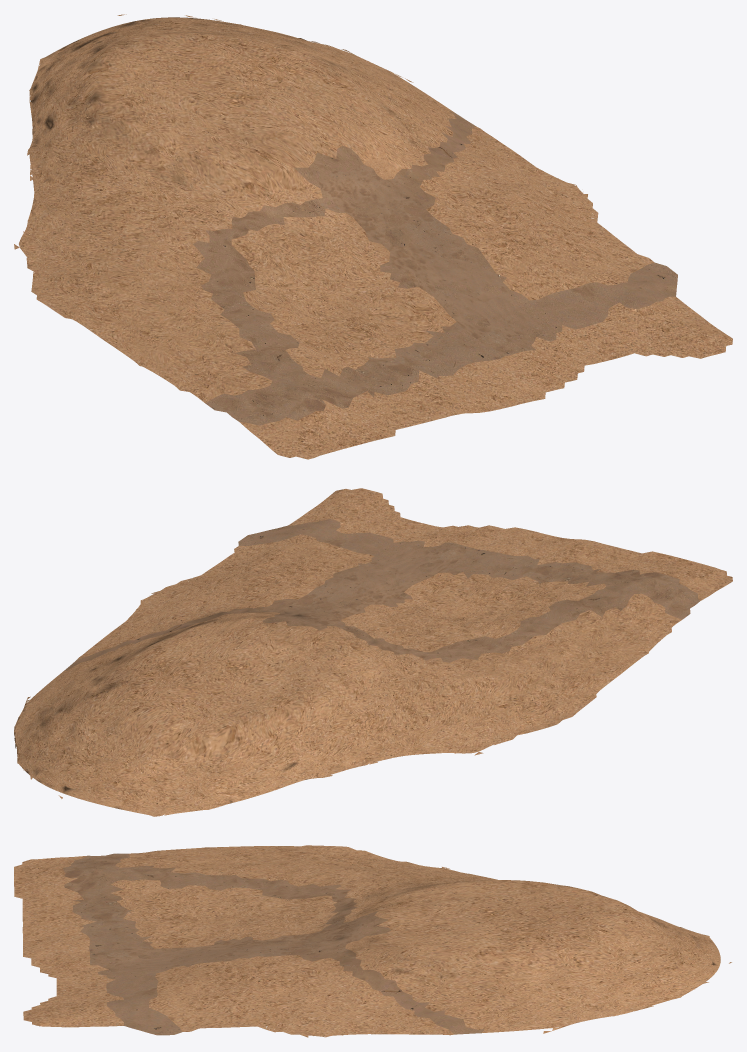
Rendered from Field3.fbx.
The picture shows the model from 3 angles, top to bottom: view 1: azimuth 30°, elevation 25°; view 2: azimuth 150°, elevation 25°; view 3: azimuth 270°, elevation 25°; orthographic projection. The views are drawn at different scales.
Parts seen in each view (by area): view 1: LV_Campagna_Mountain_SM_HSH; view 2: LV_Campagna_Mountain_SM_HSH; view 3: LV_Campagna_Mountain_SM_HSH.
Part boxes in pixels (x1,y1,x2,y2): LV_Campagna_Mountain_SM_HSH: [14, 14, 732, 459]; LV_Campagna_Mountain_SM_HSH: [14, 488, 732, 816]; LV_Campagna_Mountain_SM_HSH: [14, 845, 731, 1037].
Size of the model in its own units: 5.64e+09 by 6.66e+08 by 9.07e+09.
Materials: 2 (2 with a texture image).
